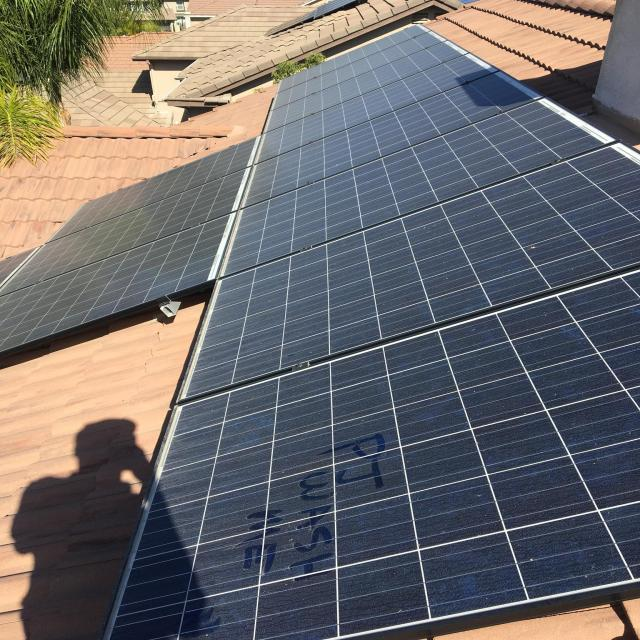dust-solar-panel: (0, 27, 640, 640)
